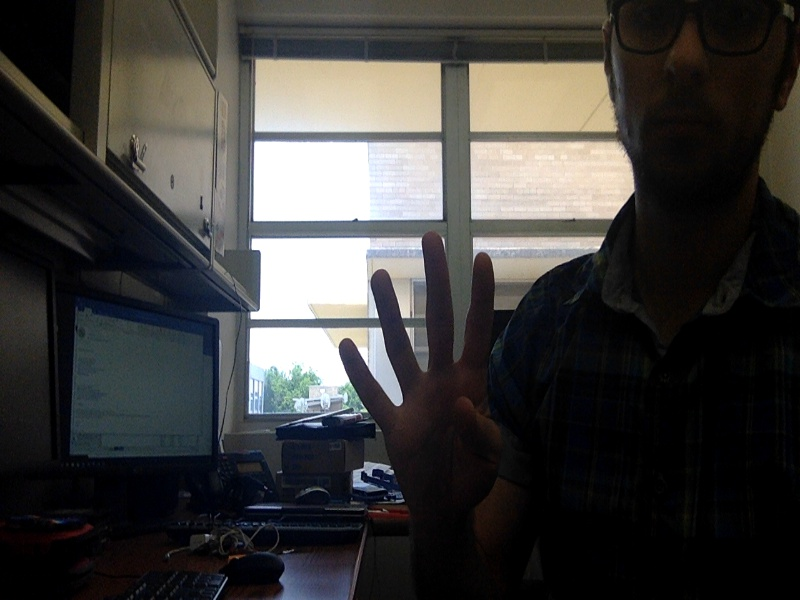4-hand: (336, 233, 516, 524)
